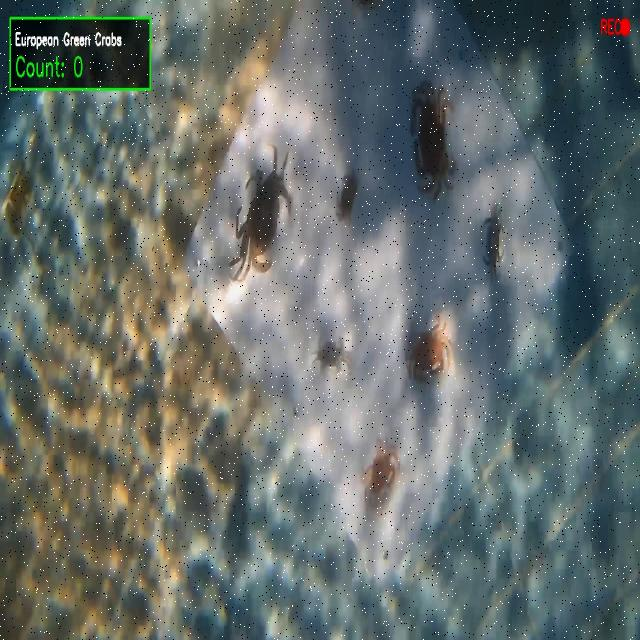European_Green_Crab: (216, 127, 307, 302), (311, 335, 356, 382), (484, 200, 503, 281)
